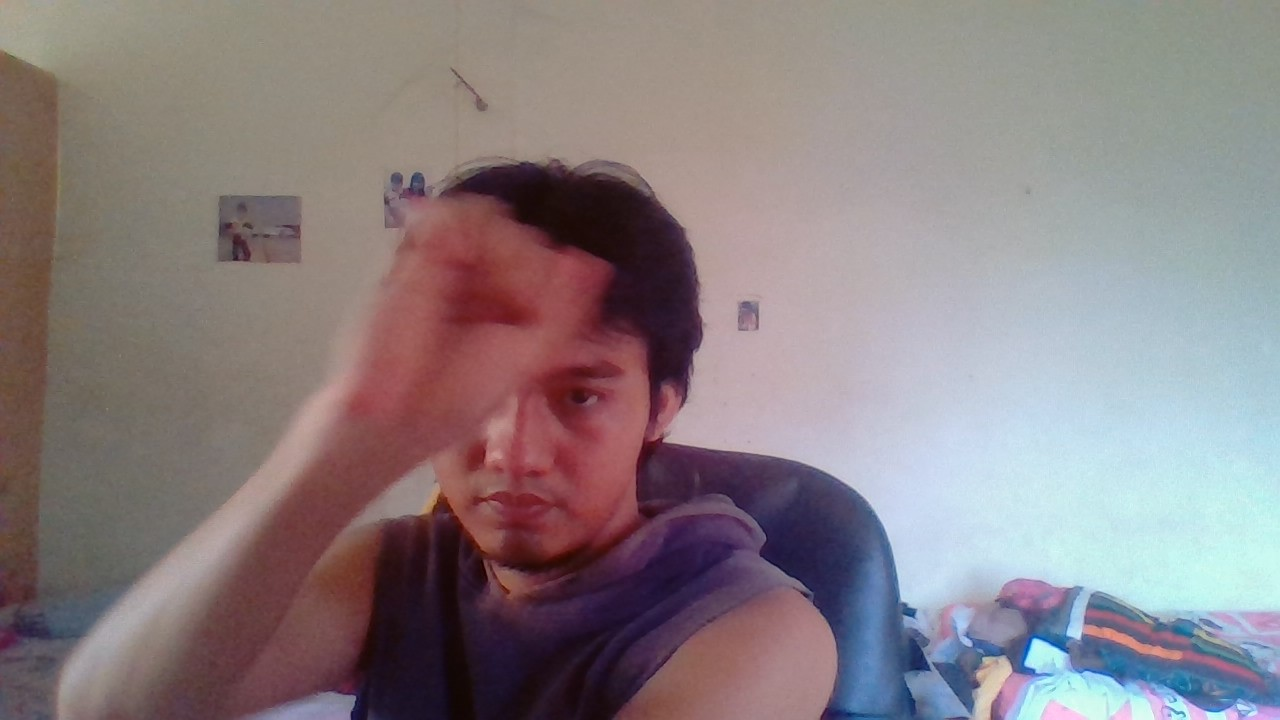A: (299, 175, 617, 465)
